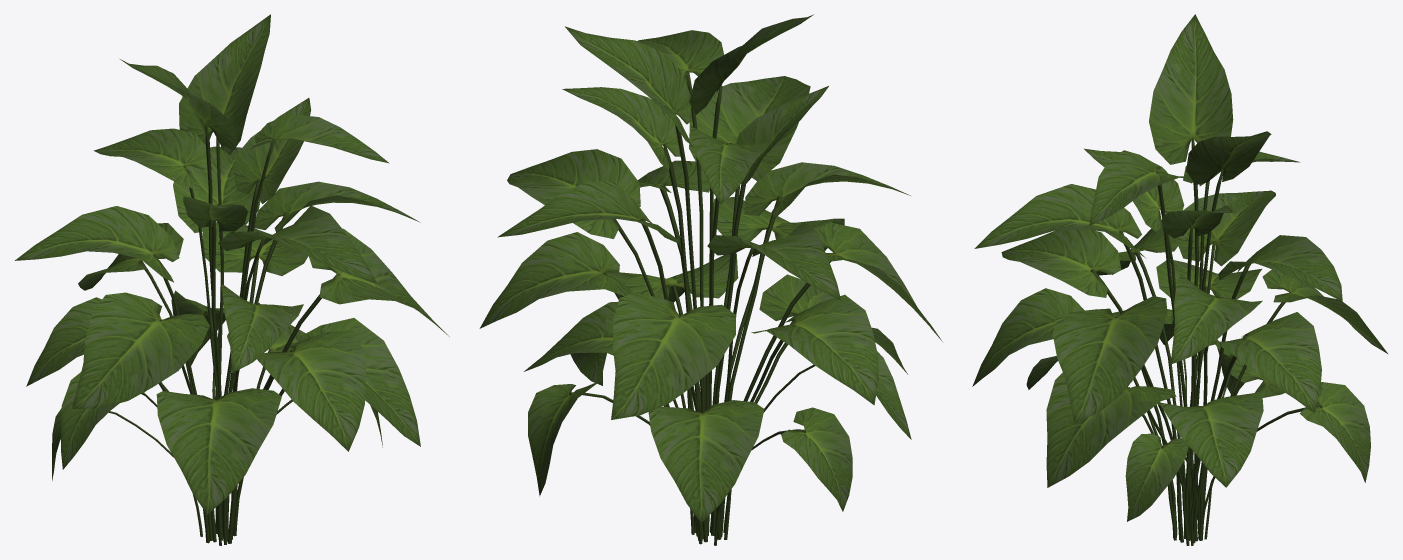
File: Plant5_Pot.FBX
3 renders of one model, left to right at view 1: azimuth 30°, elevation 25°; view 2: azimuth 150°, elevation 25°; view 3: azimuth 270°, elevation 25°, orthographic. The views are drawn at different scales.
Parts seen in each view (by area): view 1: Plant5_Pot; view 2: Plant5_Pot; view 3: Plant5_Pot.
Part boxes in pixels (<box>): Plant5_Pot: <box>15,14,449,545</box>; Plant5_Pot: <box>479,14,942,545</box>; Plant5_Pot: <box>972,14,1387,545</box>.
Size of the model in its own units: 0.4625 by 0.4701 by 0.5965.
Materials: 1 (1 with a texture image).
